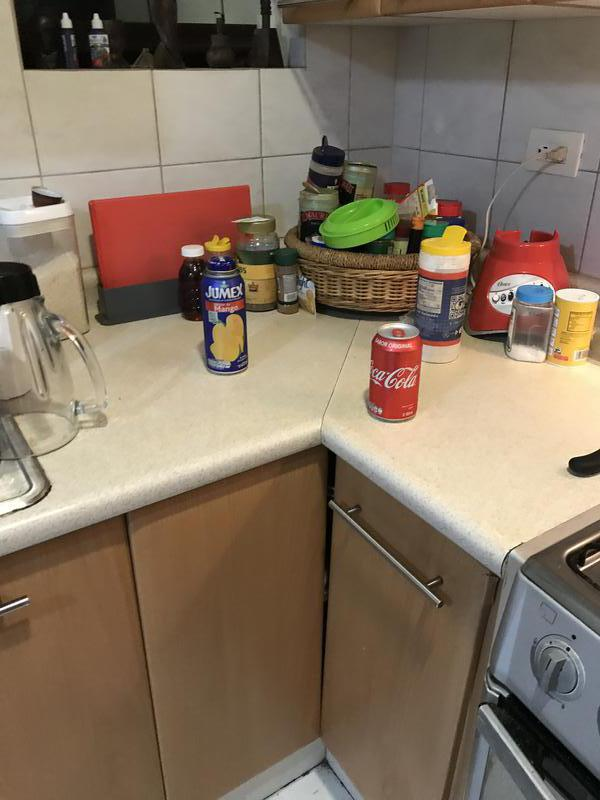coca_cola: (366, 325, 420, 422)
jugo_jumex: (204, 258, 250, 374)
